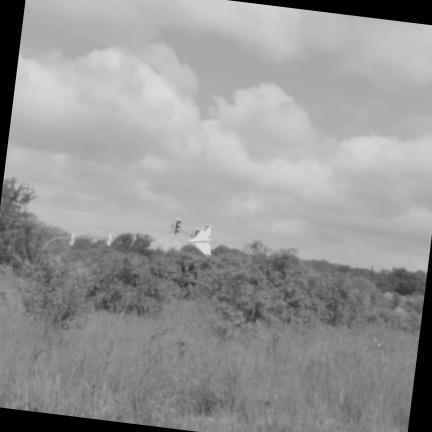Shahed: (188, 225, 211, 255)
